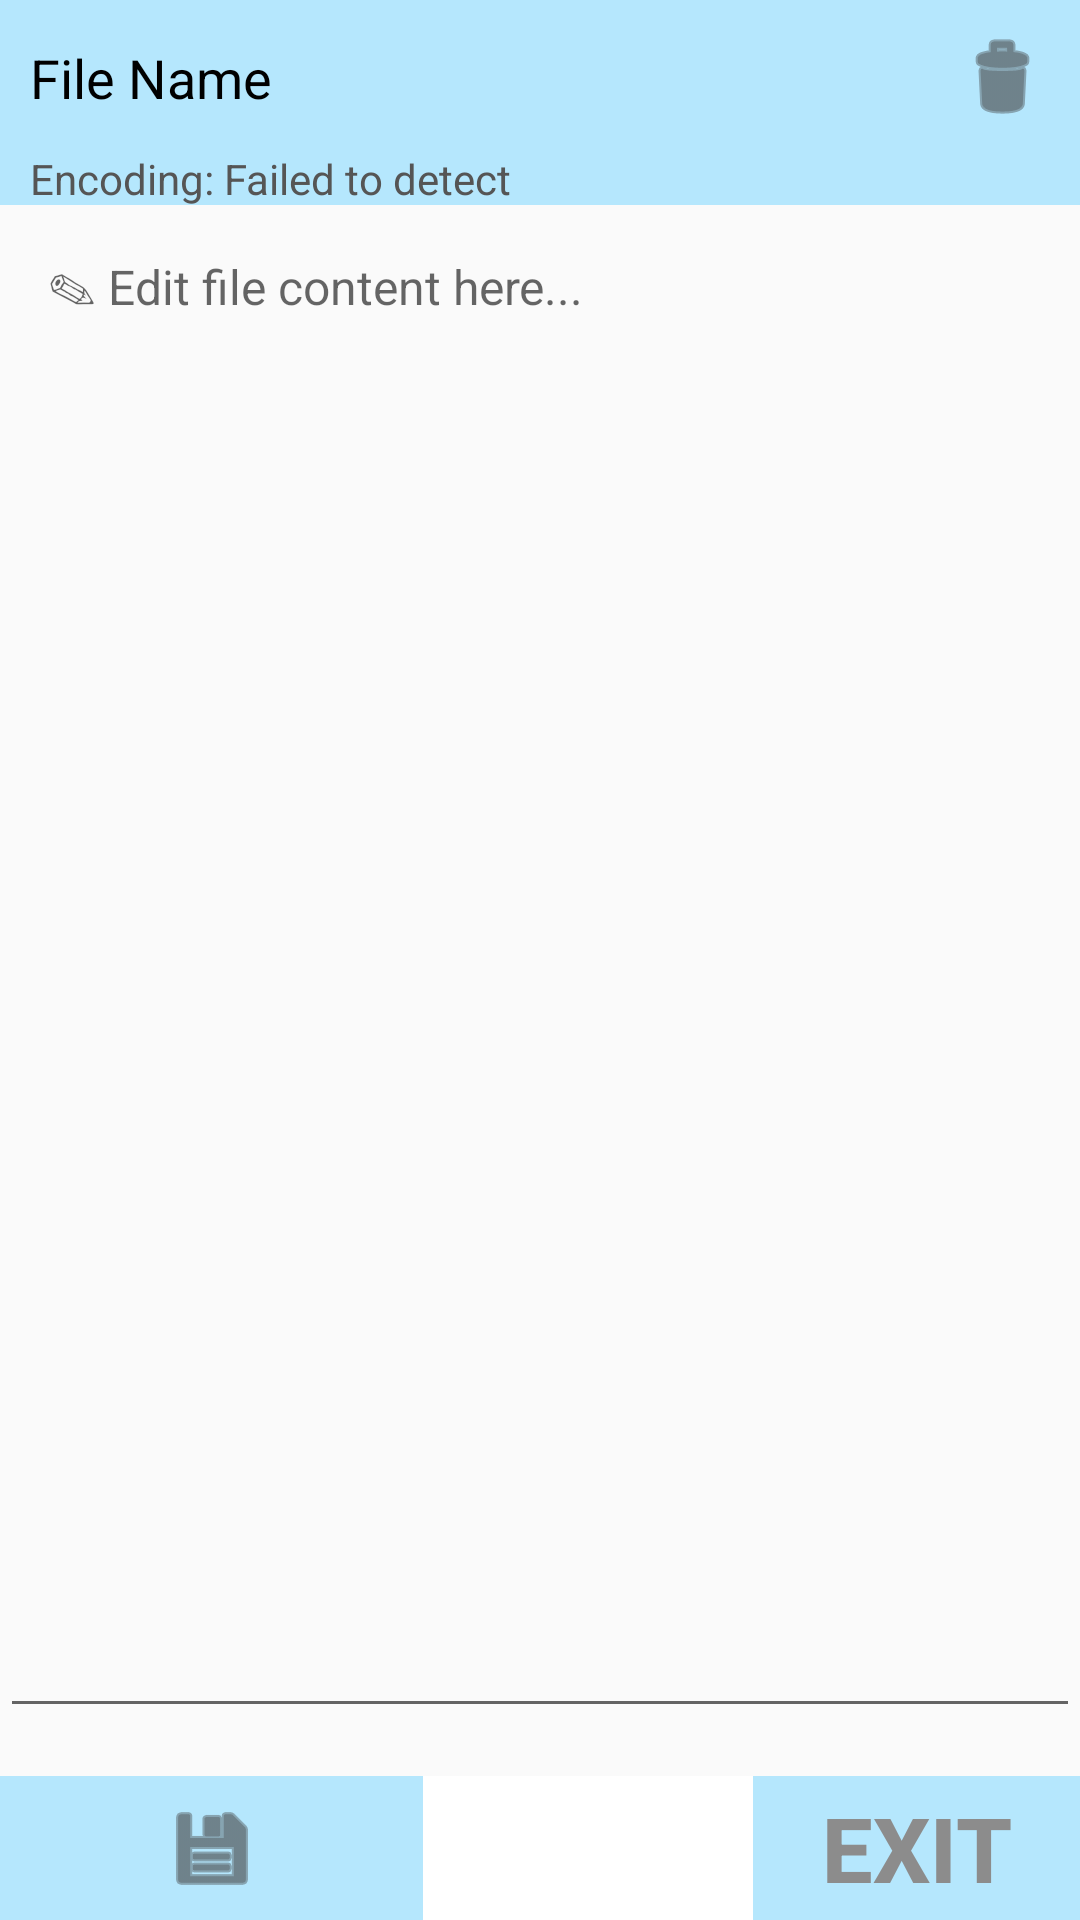

Named icons in this screenshot (1080w x 1920h) and their centers, (x=x, y=y):
Delete: (x=1002, y=76)
Save: (x=212, y=1848)
